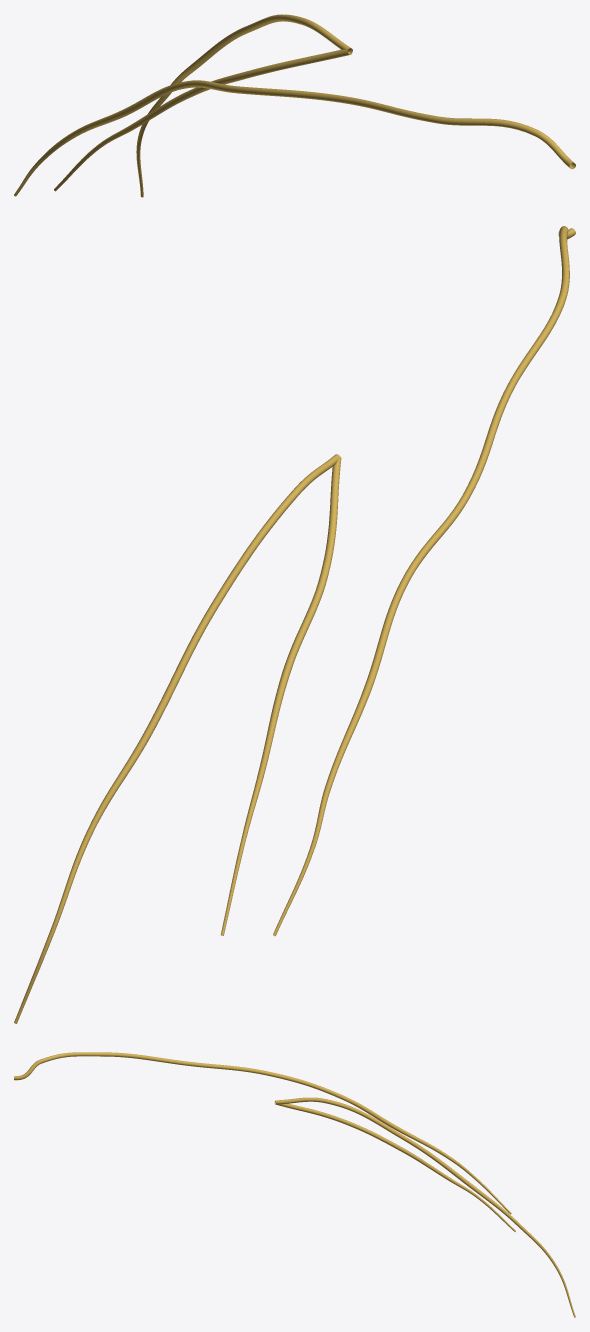
The picture shows the model from 3 angles, top to bottom: view 1: azimuth 30°, elevation 25°; view 2: azimuth 150°, elevation 25°; view 3: azimuth 270°, elevation 25°; orthographic projection. The views are drawn at different scales.
Visible parts, largest first — view 1: 左侧尺神经指掌侧固有神经; view 2: 左侧尺神经指掌侧固有神经; view 3: 左侧尺神经指掌侧固有神经.
Part boxes in pixels (left/top/right/bottom): 左侧尺神经指掌侧固有神经: left=14, top=14, right=575, bottom=197; 左侧尺神经指掌侧固有神经: left=14, top=226, right=575, bottom=1023; 左侧尺神经指掌侧固有神经: left=14, top=1052, right=575, bottom=1317.
Bounding box in the file's own units: 0.0446 × 0.0924 × 0.1925.
